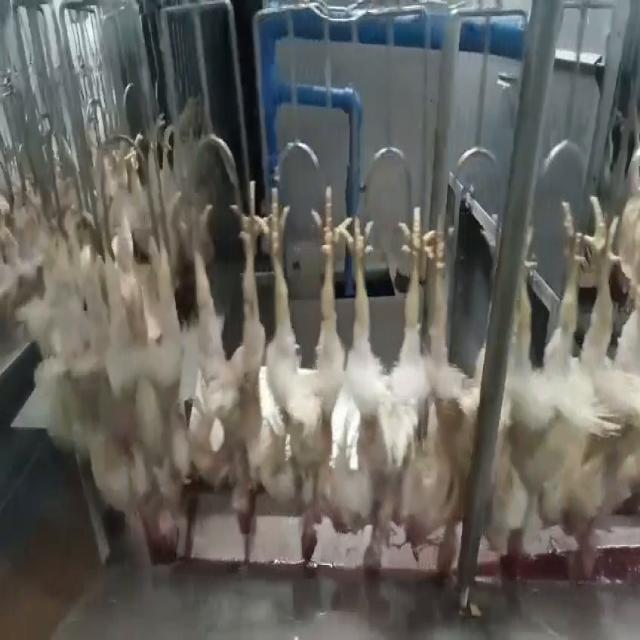chicken: (336, 198, 422, 588), (181, 182, 274, 541), (498, 198, 584, 584), (275, 183, 343, 568), (572, 189, 634, 579), (119, 186, 180, 560), (422, 208, 482, 575)
